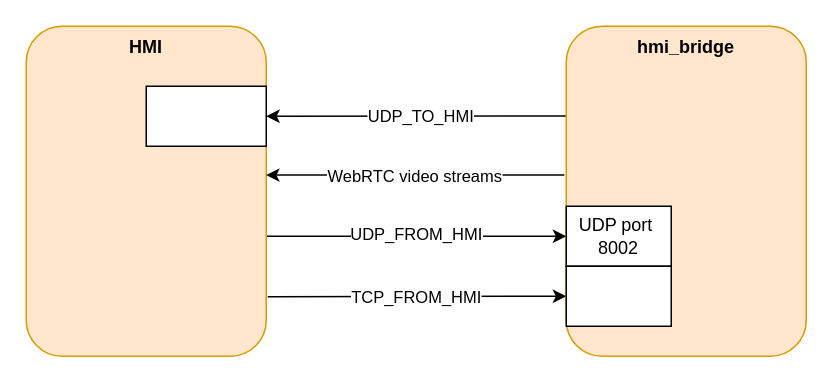
Some shapes in this 833 by 383 pixel diagram are drawn without their labels. Each missing label, with the centre of its shape:
TCP port 8002: (618,295)
UDP port 8001: (205,115)
